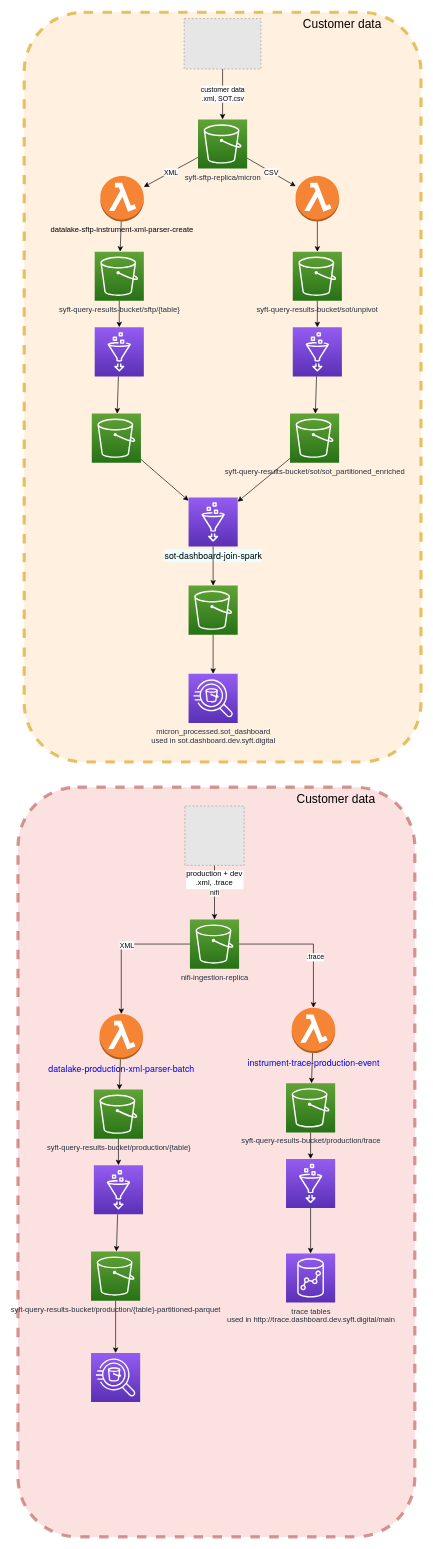
This 433x1549 diagram has some shape labels left out. Grey dashed boxes stand in for pictures. The shapes that lost their labels are listed below. From the top down, each one's centre as x and y in pixels, then its label:
(317,198): datalake-sot-csv-copy-create
(119,351): sftp-xml-partition-parquet
(317,351): sot-enrichment
(116,438): syft-query-results-bucket/sftp/{table}-partitioned
(213,610): syft-query-results-bucket/sot/sot_dashboard
(118,1189): production-xml-partition-parquet
(310,1183): trace-to-redshift
(115,1377): instrument_processed.{table}_partitioned
